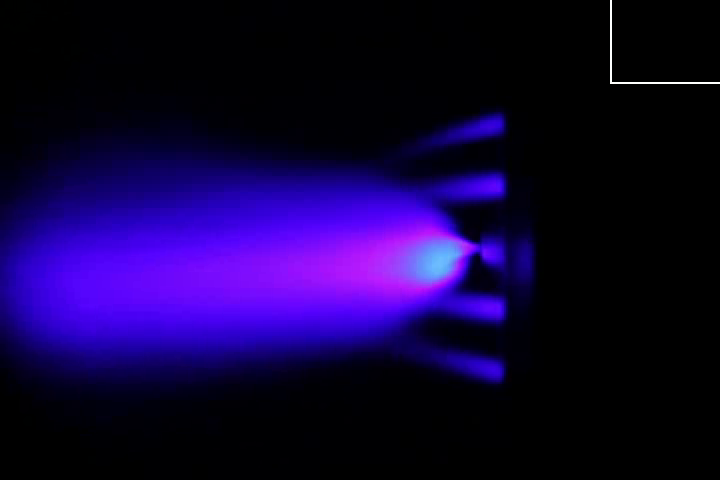burner cap: (479, 234, 511, 271)
pilot flame: (400, 344, 508, 386), (402, 109, 505, 147), (434, 288, 506, 326), (415, 174, 508, 202)
stable: (341, 215, 484, 295)
